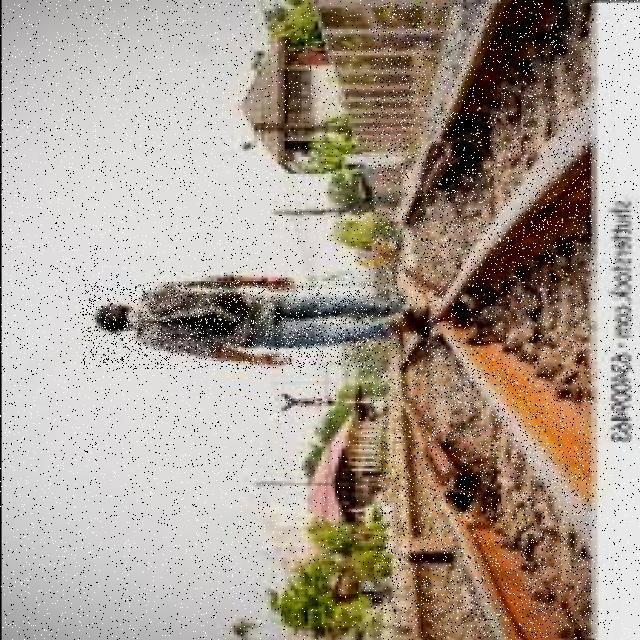danger: (82, 282, 421, 369)
rail: (374, 4, 592, 638)
